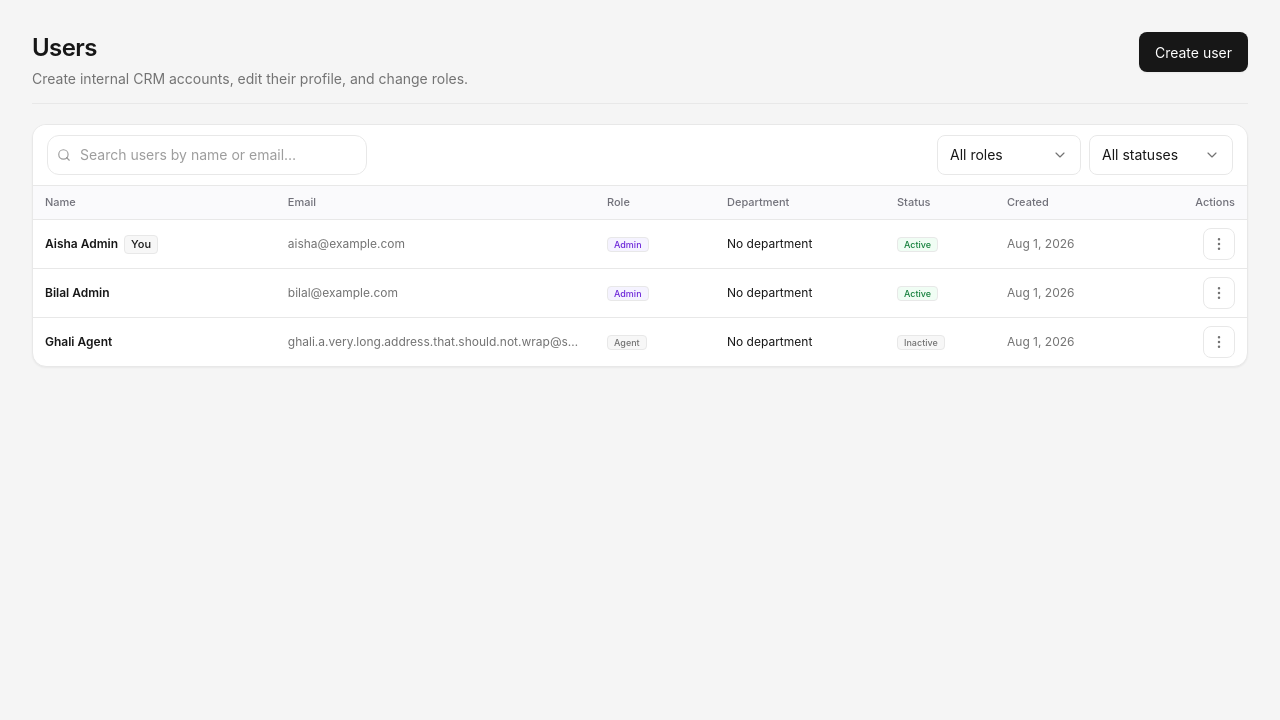
Test: users management — table › prevents a duplicate status request while one is pending
Click the button named "Actions" in the row of "Bilal Admin" at (1219, 293), box [1203,277,1235,309]
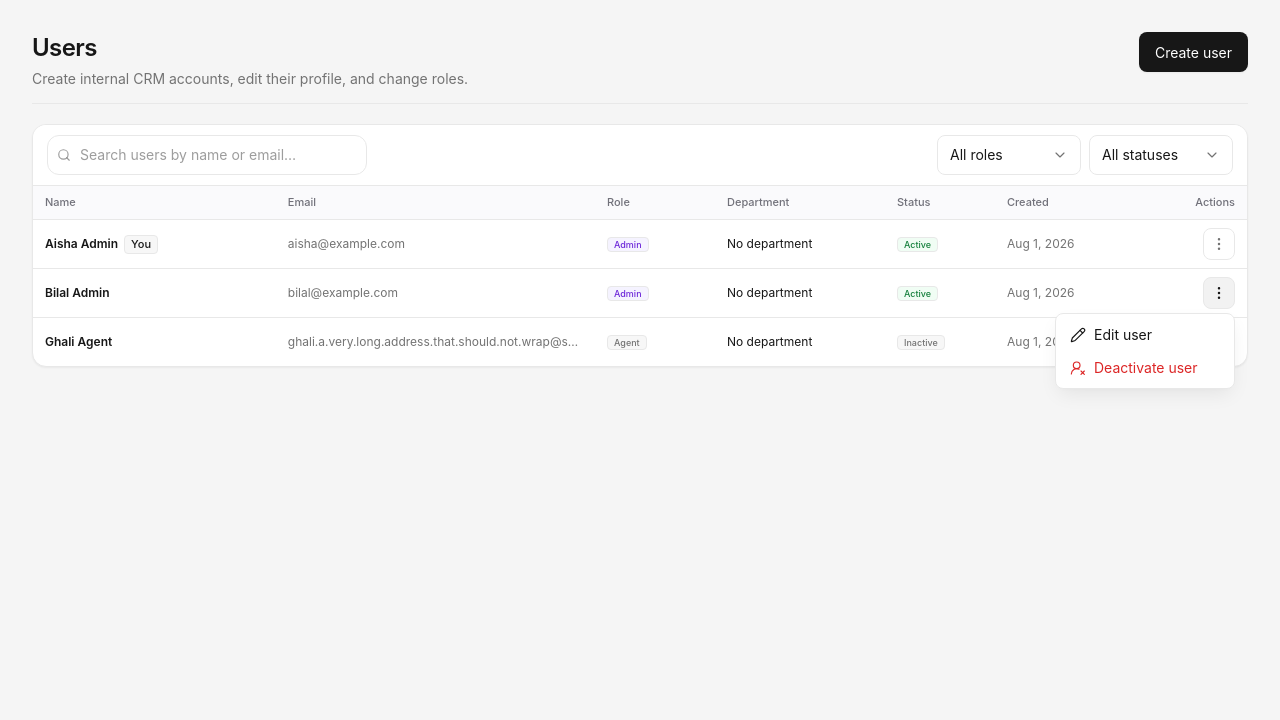
Click the menu item "Deactivate user" at (1145, 368), box [1060,351,1230,384]
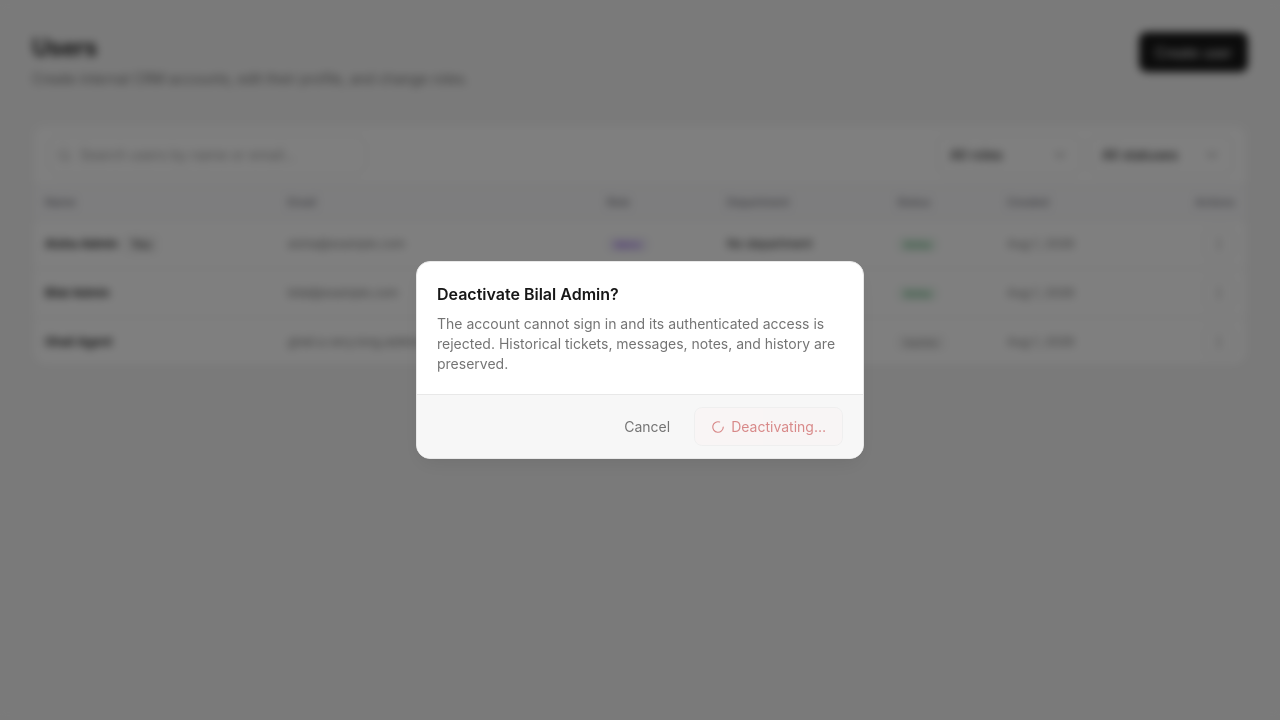
Expected: the button "Deactivating…" is disabled, [694,407,843,446]
Expected: the button "Cancel" is disabled, [608,407,686,446]
